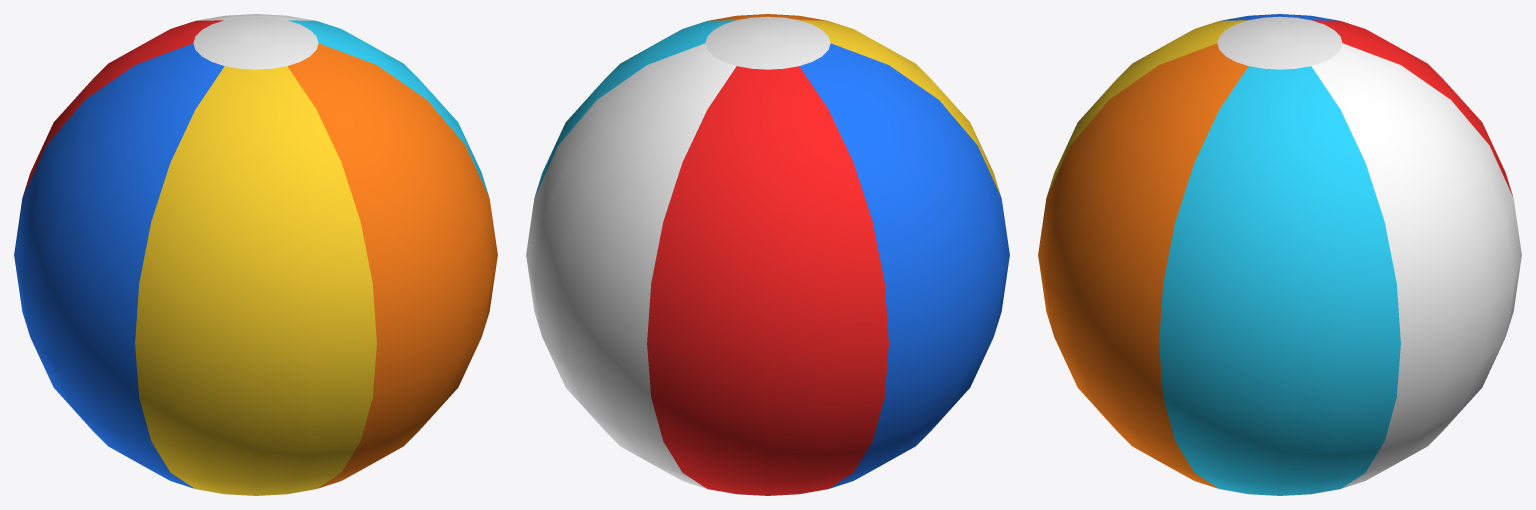
Rendered from BeachballBud.FBX.
3 views of the same model, side by side, from view 1: azimuth 30°, elevation 25°; view 2: azimuth 150°, elevation 25°; view 3: azimuth 270°, elevation 25° (orthographic).
Visible parts, largest first — view 1: Sphere001; view 2: Sphere001; view 3: Sphere001.
Part boxes in pixels (box(x1,y1,x2,y2)): Sphere001: box(14, 14, 497, 495); Sphere001: box(526, 14, 1009, 495); Sphere001: box(1038, 14, 1521, 495).
Size of the model in its own units: 2.31 by 2.32 by 2.31.
